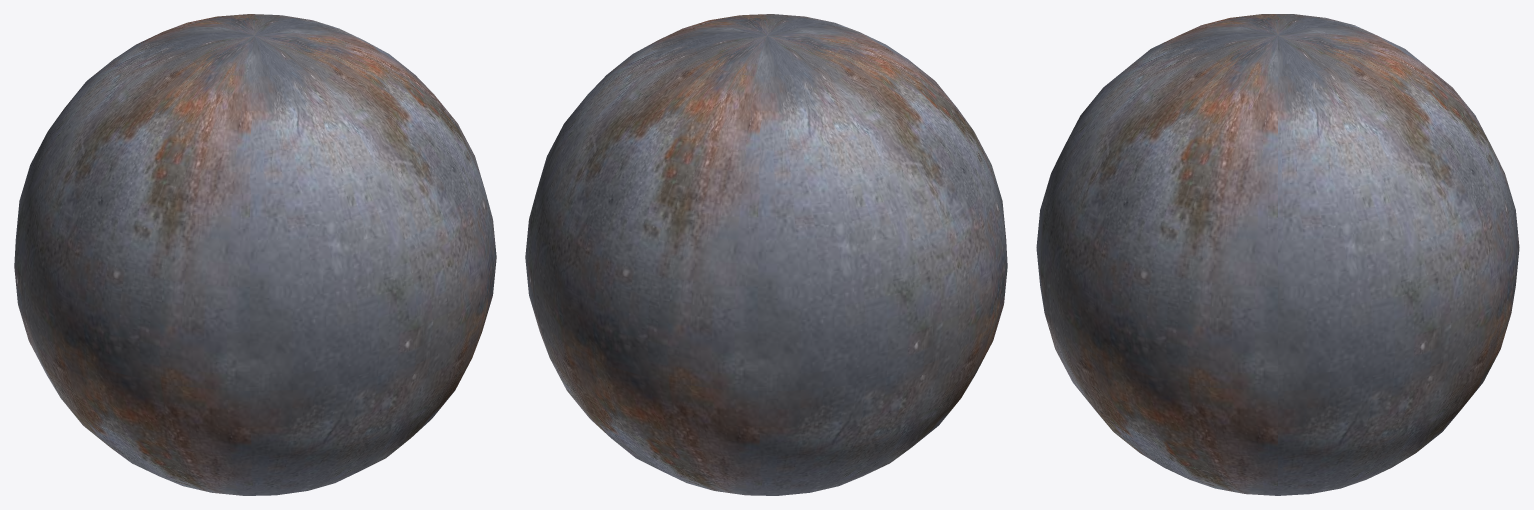
File: iron ball.obj
3 views of the same model, side by side, from view 1: azimuth 30°, elevation 25°; view 2: azimuth 150°, elevation 25°; view 3: azimuth 270°, elevation 25° (orthographic).
Visible parts, largest first — view 1: sphere1; view 2: sphere1; view 3: sphere1.
Boxes of the visible parts, x1=… form: sphere1: x1=14, y1=14, x2=496, y2=495; sphere1: x1=525, y1=14, x2=1007, y2=495; sphere1: x1=1036, y1=14, x2=1519, y2=495.
Size of the model in its own units: 7.85 by 7.89 by 7.87.
